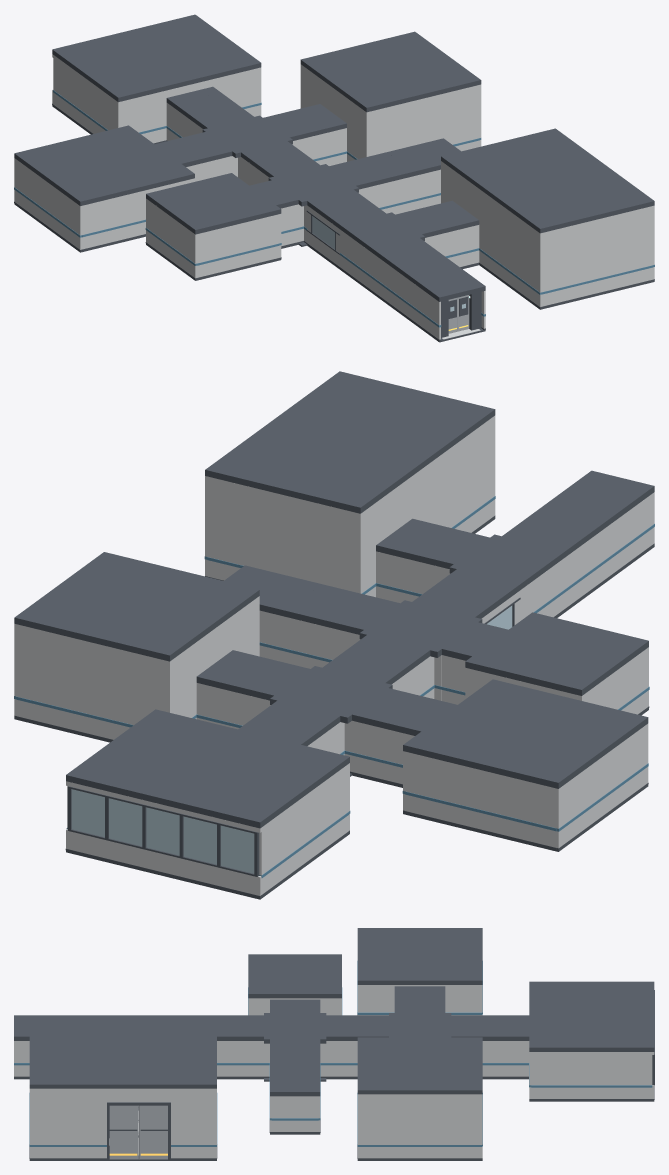
Rendered from spaceship-deck-kit-spaceship-deck-kit-deck-scene-0ea59b80__12599.glb.
The picture shows the model from 3 angles, top to bottom: view 1: azimuth 30°, elevation 25°; view 2: azimuth 150°, elevation 25°; view 3: azimuth 270°, elevation 25°; orthographic projection. The views are drawn at different scales.
Parts seen in each view (by area): view 1: 017-cargo-bay-shell/1, 017-cargo-bay-shell/0, 000-bridge-shell/0, 005-room-shell-8x8/0, 007-engineering-shell/0, 007-engineering-shell/1, 000-bridge-shell/1, 005-room-shell-8x8/1, 011-room-shell-6x6/1, 011-room-shell-6x6/0, 019-airlock-chamber/0, 014-corridor-window/0 (+24 smaller); view 2: 017-cargo-bay-shell/1, 017-cargo-bay-shell/0, 000-bridge-shell/0, 007-engineering-shell/1, 005-room-shell-8x8/0, 007-engineering-shell/0, 005-room-shell-8x8/1, 000-bridge-shell/1, 011-room-shell-6x6/0, 000-bridge-shell/4, 003-corridor-cross/0, 009-corridor-cross/0 (+24 smaller); view 3: 017-cargo-bay-shell/0, 017-cargo-bay-shell/1, 000-bridge-shell/0, 007-engineering-shell/1, 007-engineering-shell/0, 005-room-shell-8x8/0, 000-bridge-shell/1, 011-room-shell-6x6/0, 005-room-shell-8x8/1, 009-corridor-cross/0, 013-corridor-end/0, 013-corridor-end/1 (+23 smaller).
Boxes of the visible parts, left/top/right/bottom form: 017-cargo-bay-shell/1: left=441, top=161, right=654, bottom=306; 017-cargo-bay-shell/0: left=441, top=128, right=654, bottom=309; 000-bridge-shell/0: left=52, top=14, right=261, bottom=144; 005-room-shell-8x8/0: left=14, top=125, right=194, bottom=252; 007-engineering-shell/0: left=300, top=31, right=481, bottom=112; 007-engineering-shell/1: left=300, top=64, right=481, bottom=161; 000-bridge-shell/1: left=52, top=54, right=261, bottom=143; 005-room-shell-8x8/1: left=14, top=158, right=194, bottom=249; 011-room-shell-6x6/1: left=146, top=198, right=281, bottom=278; 011-room-shell-6x6/0: left=145, top=173, right=281, bottom=280; 019-airlock-chamber/0: left=406, top=262, right=485, bottom=342; 014-corridor-window/0: left=306, top=189, right=385, bottom=269; 017-cargo-bay-shell/1: left=205, top=415, right=495, bottom=597; 017-cargo-bay-shell/0: left=205, top=371, right=495, bottom=580; 000-bridge-shell/0: left=65, top=709, right=349, bottom=899; 007-engineering-shell/1: left=14, top=596, right=259, bottom=739; 005-room-shell-8x8/0: left=403, top=679, right=648, bottom=851; 007-engineering-shell/0: left=14, top=552, right=259, bottom=742; 005-room-shell-8x8/1: left=403, top=723, right=648, bottom=848; 000-bridge-shell/1: left=66, top=763, right=349, bottom=895; 011-room-shell-6x6/0: left=465, top=612, right=649, bottom=715; 000-bridge-shell/4: left=71, top=789, right=254, bottom=873; 003-corridor-cross/0: left=270, top=666, right=392, bottom=776; 009-corridor-cross/0: left=359, top=600, right=482, bottom=657; 017-cargo-bay-shell/0: left=29, top=1031, right=217, bottom=1160; 017-cargo-bay-shell/1: left=29, top=1088, right=216, bottom=1158; 000-bridge-shell/0: left=529, top=981, right=654, bottom=1101; 007-engineering-shell/1: left=357, top=1094, right=482, bottom=1158; 007-engineering-shell/0: left=357, top=1037, right=482, bottom=1160; 005-room-shell-8x8/0: left=357, top=928, right=482, bottom=1014; 000-bridge-shell/1: left=529, top=1052, right=654, bottom=1098; 011-room-shell-6x6/0: left=248, top=954, right=341, bottom=998; 005-room-shell-8x8/1: left=357, top=985, right=482, bottom=1015; 009-corridor-cross/0: left=264, top=1013, right=326, bottom=1081; 013-corridor-end/0: left=269, top=1065, right=320, bottom=1134; 013-corridor-end/1: left=270, top=1096, right=320, bottom=1131.
Bounding box in the file's own units: 28.14 × 5.4 × 41.04.
